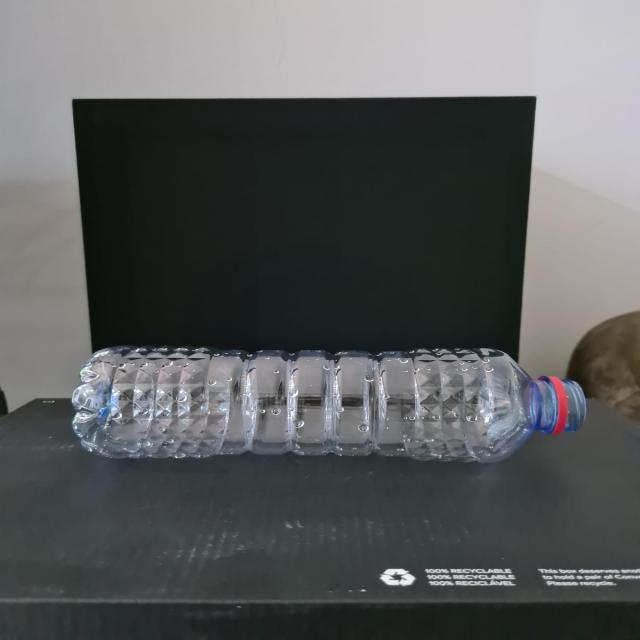bottle: (65, 330, 606, 470)
